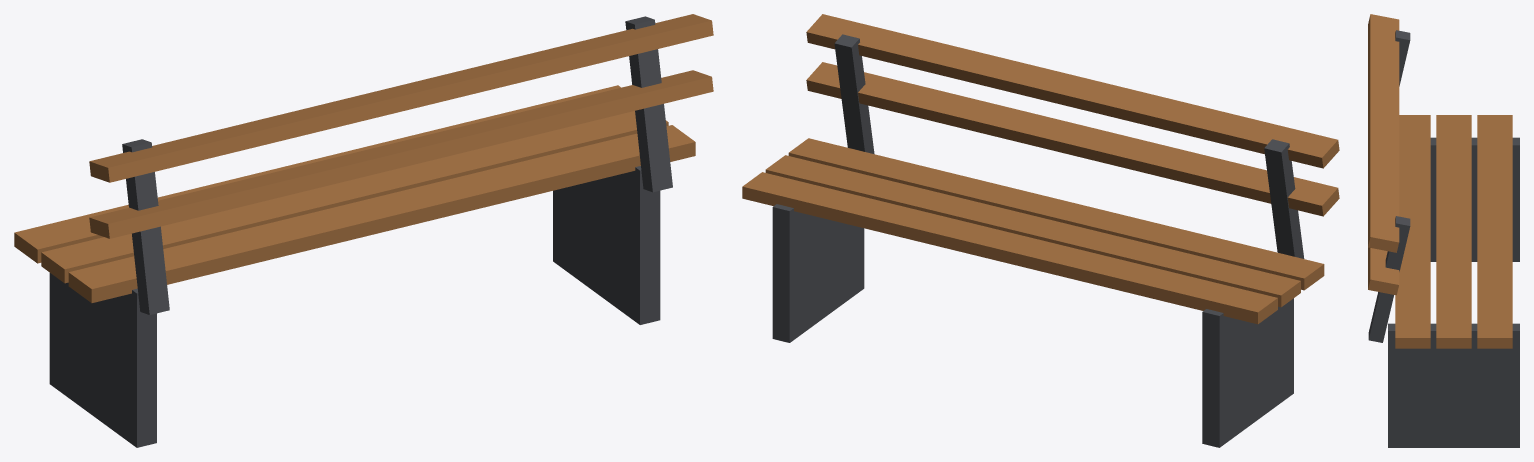
Rendered from Bench.fbx.
3 views of the same model, side by side, from view 1: azimuth 30°, elevation 25°; view 2: azimuth 150°, elevation 25°; view 3: azimuth 270°, elevation 25° (orthographic). The views are drawn at different scales.
Parts seen in each view (by area): view 1: Bench; view 2: Bench; view 3: Bench.
Part boxes in pixels (<box>): Bench: <box>14,14,713,447</box>; Bench: <box>742,14,1339,447</box>; Bench: <box>1368,14,1519,447</box>.
Size of the model in its own units: 1.8 by 0.85 by 0.5181.
